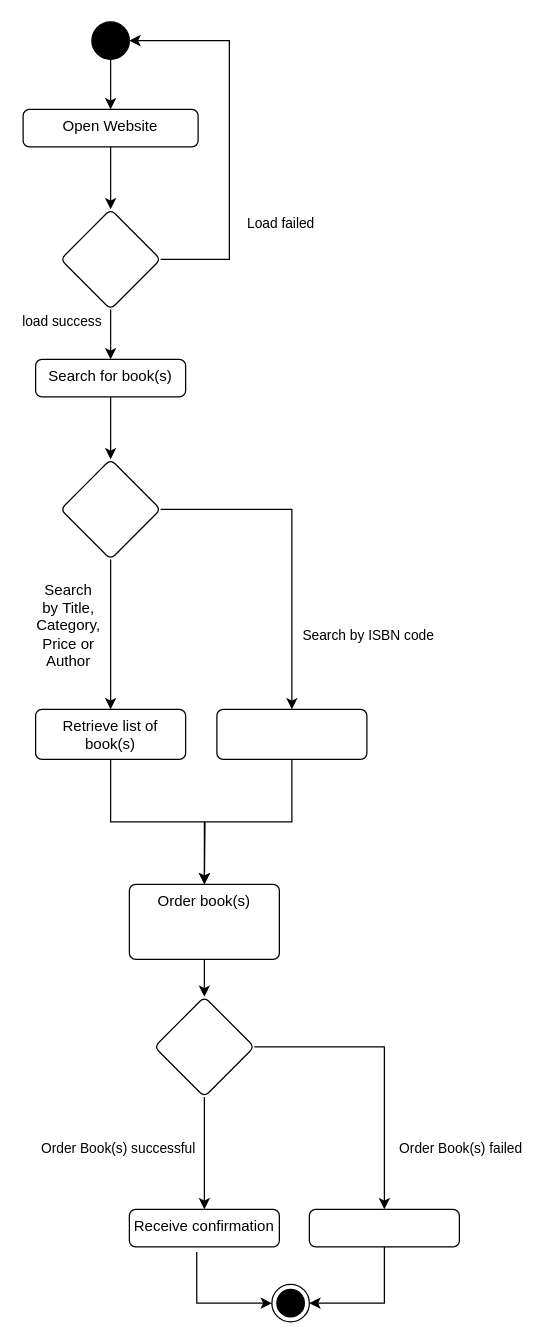
Some shapes in this 543 by 1344 pixel diagram are drawn without their labels. Each missing label, with the box of its shape:
Receive error: (308, 1208, 459, 1247)
Retrieve book: (216, 708, 367, 759)
